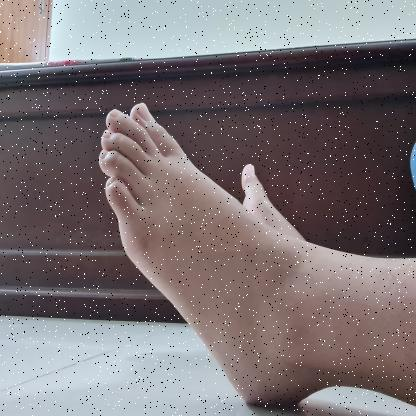leg: (93, 94, 416, 416)
